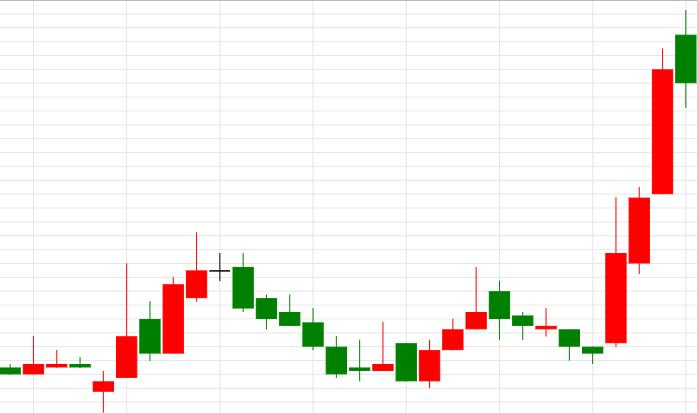evening_star_fall: (92, 231, 254, 412)
three_white_soldiers_rise: (489, 48, 673, 363)
